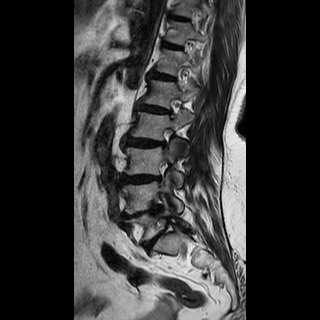LFS0: (149, 157, 172, 187), (162, 96, 185, 123), (158, 125, 177, 156)
